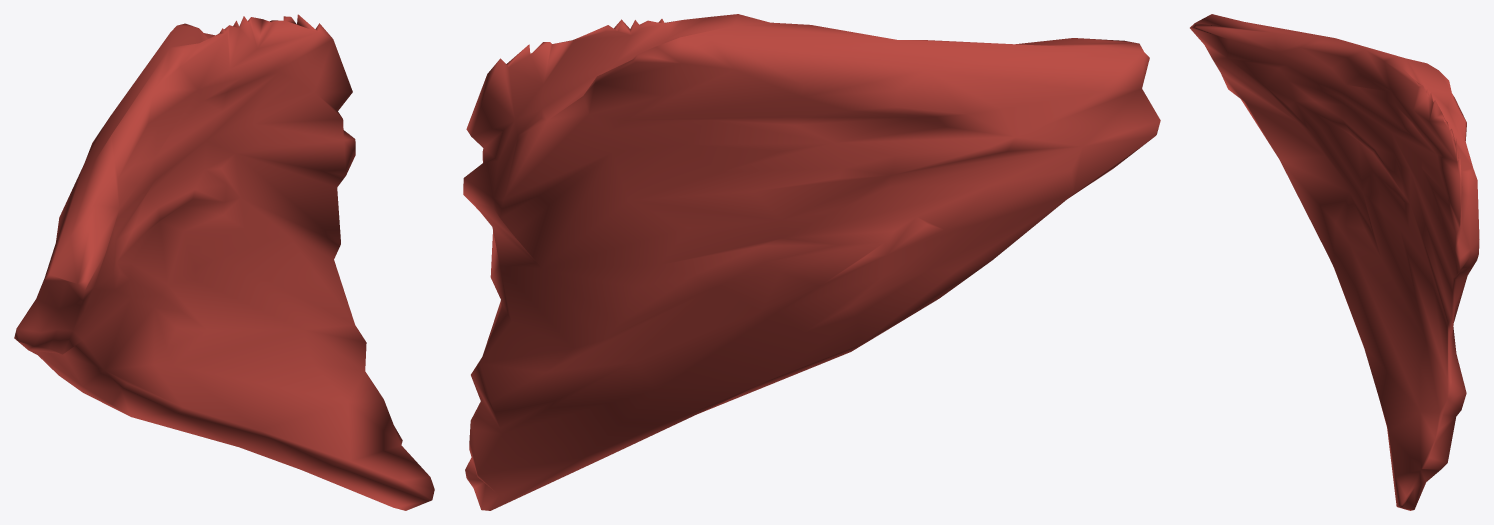
Rendered from musculos-coccygeus-muscle-r.glb.
3 views of the same model, side by side, from view 1: azimuth 30°, elevation 25°; view 2: azimuth 150°, elevation 25°; view 3: azimuth 270°, elevation 25° (orthographic). The views are drawn at different scales.
Visible parts, largest first — view 1: Coccygeus muscle.r; view 2: Coccygeus muscle.r; view 3: Coccygeus muscle.r.
Part boxes in pixels (bbox=[...]): Coccygeus muscle.r: bbox=[14, 14, 434, 510]; Coccygeus muscle.r: bbox=[463, 14, 1160, 510]; Coccygeus muscle.r: bbox=[1190, 14, 1479, 510].
Size of the model in its own units: 0.0443 by 0.041 by 0.0289.
